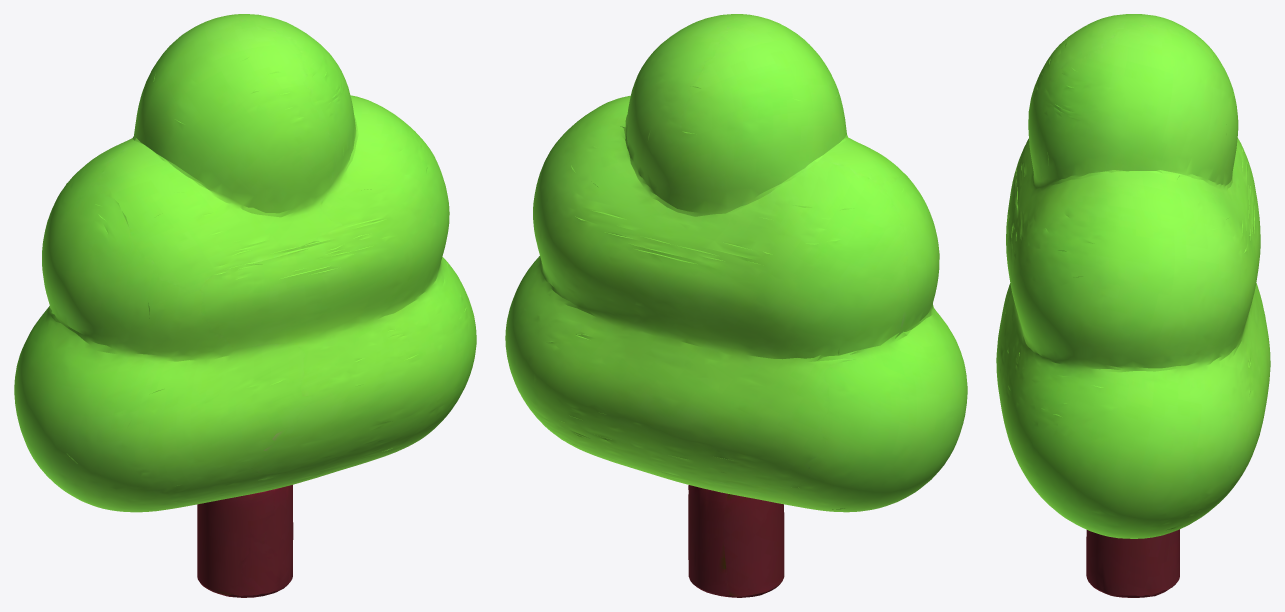
Rendered from tree.glb.
The picture shows the model from 3 angles, left to right: view 1: azimuth 30°, elevation 25°; view 2: azimuth 150°, elevation 25°; view 3: azimuth 270°, elevation 25°; orthographic projection.
Parts seen in each view (by area): view 1: model; view 2: model; view 3: model.
Boxes of the visible parts, left/top/right/bottom form: model: left=14, top=14, right=476, bottom=597; model: left=505, top=14, right=967, bottom=597; model: left=996, top=14, right=1270, bottom=597.
Bounding box in the file's own units: 0.8083 × 1 × 0.4468.
Materials: 1 (1 with a texture image).
